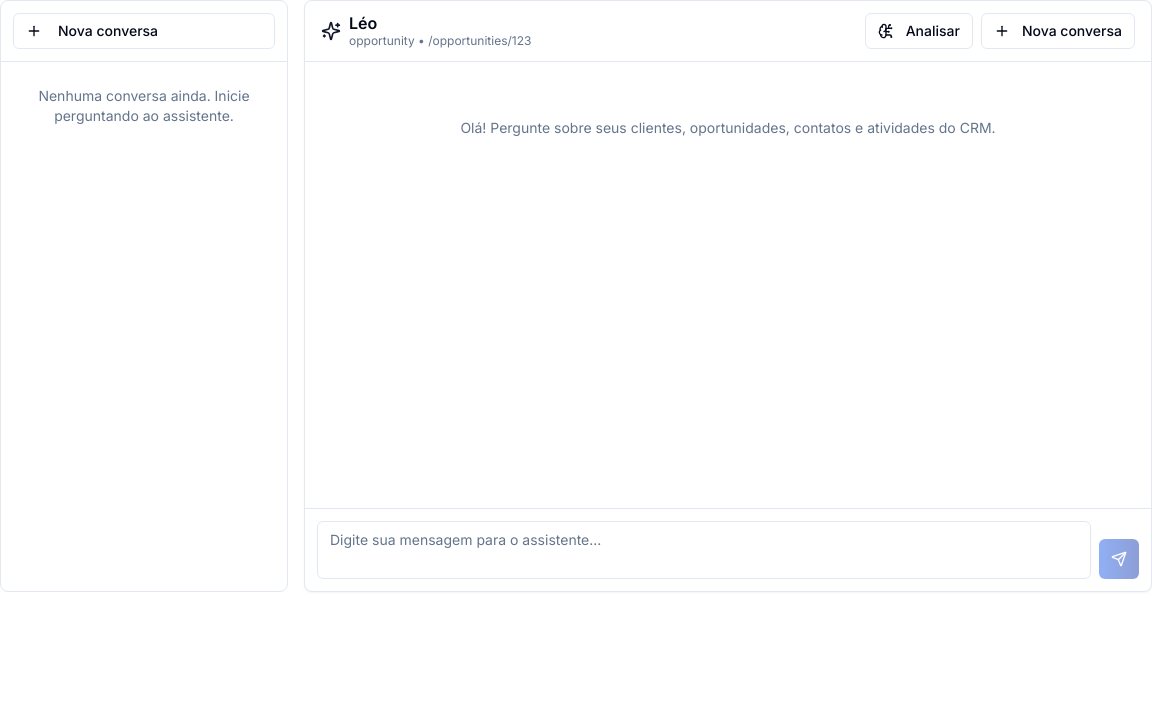
AiChatAssistant análise contextual (AI-06) › envia o contexto correto para POST /analyze ao clicar em Analisar
Click the button with aria-label "Analisar o registro atual" at point(919, 31), box [865,13,973,49]
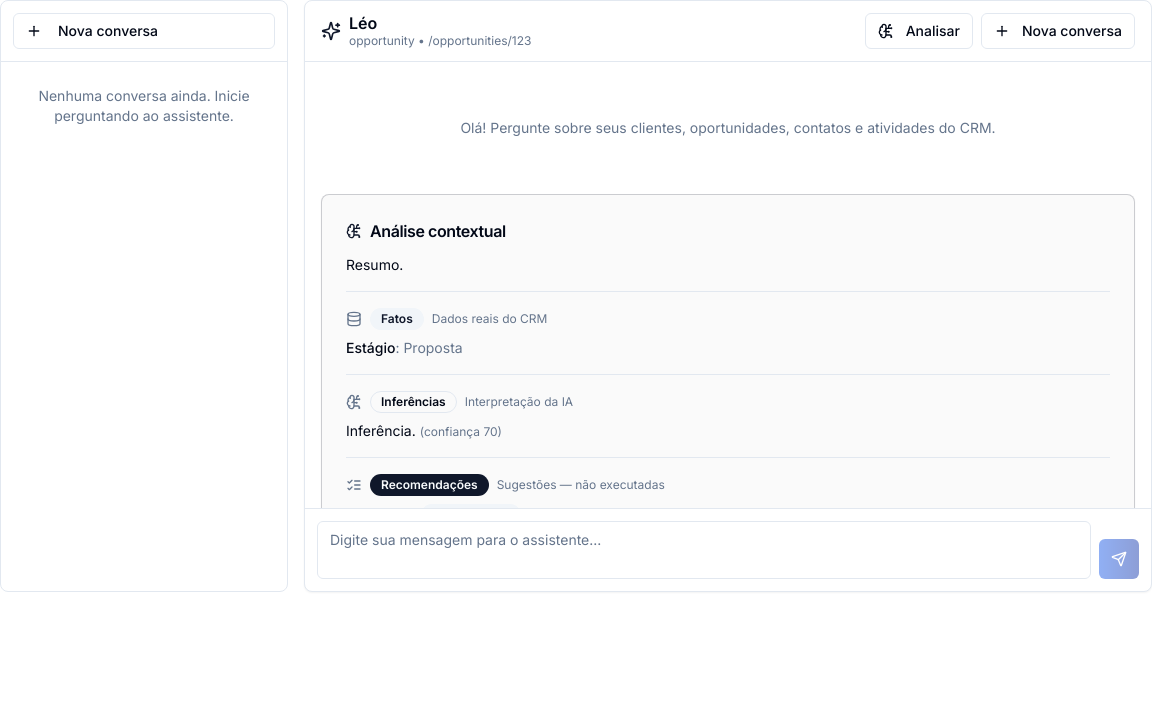
Result: the text "Resumo." is shown at [346,256,403,273]
Result: the element labelled "Fatos" is shown at [346,308,547,356]
Result: the element labelled "Inferências" is shown at [346,391,573,439]
